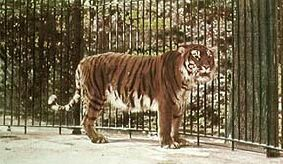Tigre: (70, 41, 224, 153)
